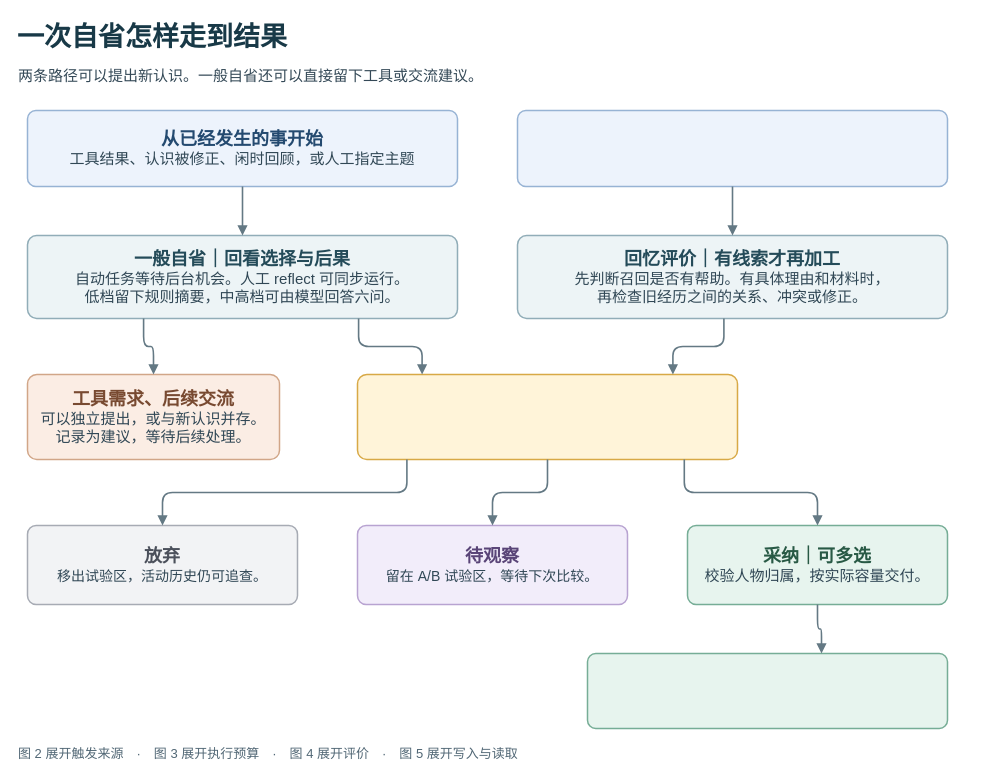
Image size: 999x782. Some labels were removed from this diagram. The box of each missing label's shape, as (x1, y1, x2, y2) in pixels:
从一次真实的回忆开始 记录当时找到了什么、主认知看到了什么、后来怎样回应: (516, 109, 948, 187)
候选结果值得留下吗？ 对照来源、增量和用途，逐项比较并说明理由。 两条路径都允许没有学习候选，活动到此结束。: (356, 373, 738, 460)
记忆 · 个人经验 · 人物相处经验 后续由不同入口读取，正文只存一份。: (586, 652, 948, 729)
